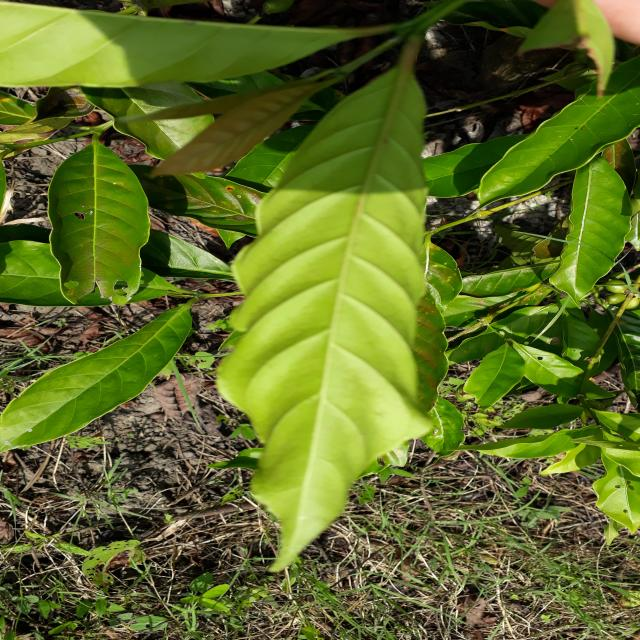Sanas: (214, 42, 447, 576)
